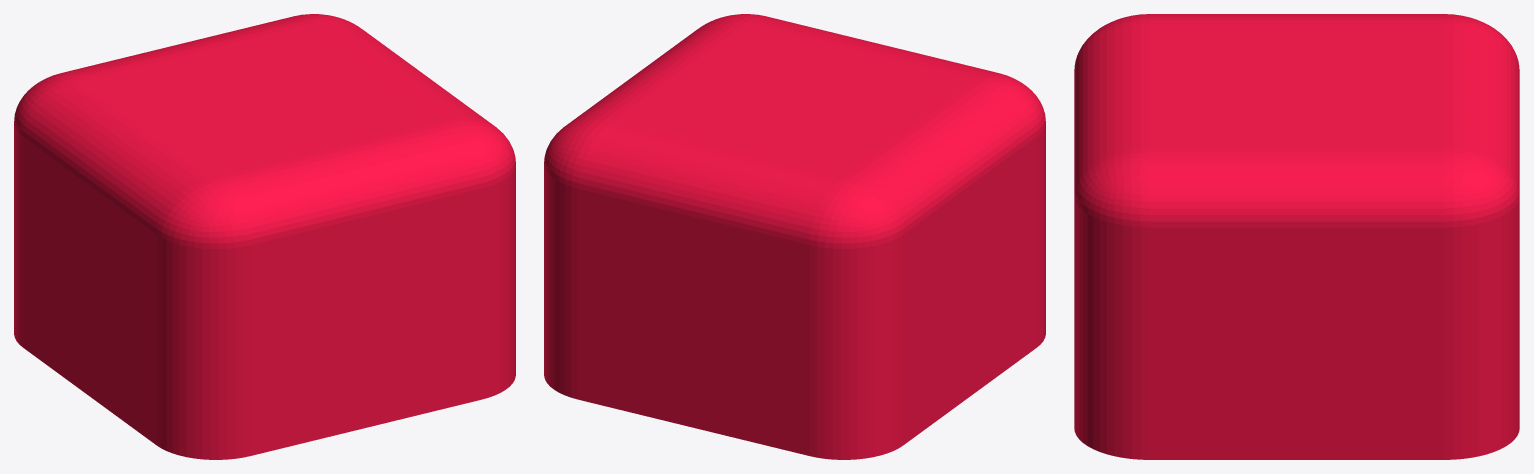
The model's file is ButtonSquare.fbx.
The picture shows the model from 3 angles, left to right: view 1: azimuth 30°, elevation 25°; view 2: azimuth 150°, elevation 25°; view 3: azimuth 270°, elevation 25°; orthographic projection. The views are drawn at different scales.
Parts seen in each view (by area): view 1: ButtonSquare; view 2: ButtonSquare; view 3: ButtonSquare.
Boxes of the visible parts, x1=… form: ButtonSquare: x1=14, y1=14, x2=515, y2=459; ButtonSquare: x1=544, y1=14, x2=1045, y2=459; ButtonSquare: x1=1074, y1=14, x2=1519, y2=459.
Size of the model in its own units: 2.16 by 2.16 by 1.5.
